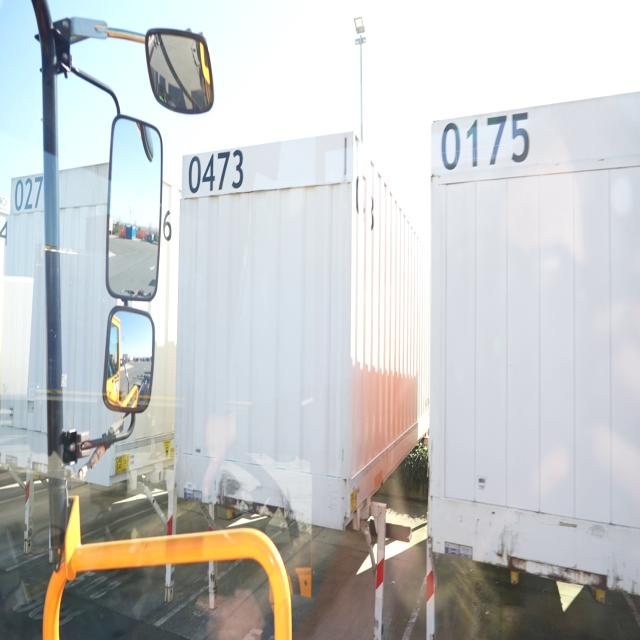Code: (434, 104, 538, 177), (187, 146, 244, 198)
